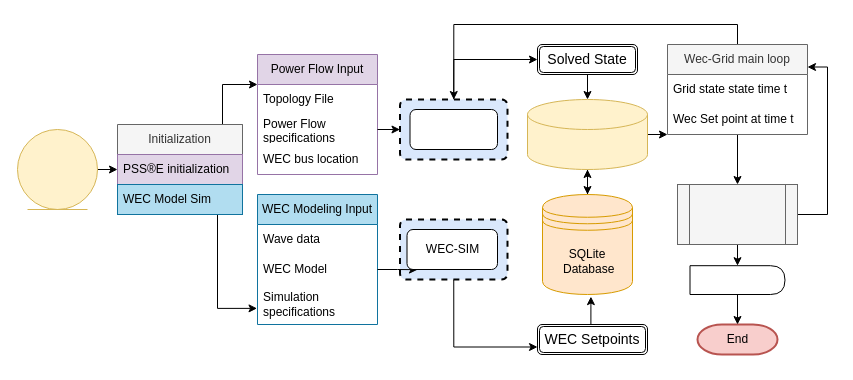
The diagram is 853 pixels wide and 380 high, and some of its shapes have lost their labels. The centre of each missing label's shape, as x and y in pixels:
End condition?: pixel 737 279
Injection Function: pixel 737 214
PSS®E: pixel 453 129
WecGrid local Memory: pixel 587 134
WecGrid Object: pixel 57 169
